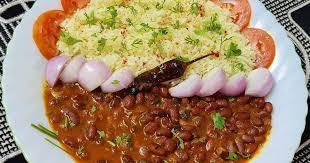rajma: (49, 86, 275, 163)
rice: (68, 6, 256, 72)
salad: (41, 55, 281, 105)
